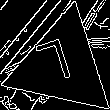L_S: (40, 36, 83, 94)
